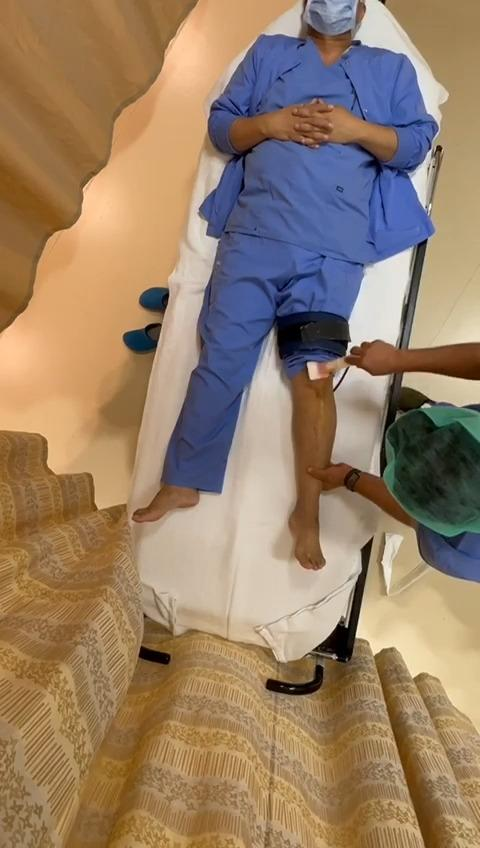patient: (134, 0, 437, 569)
prepstick: (305, 355, 347, 380)
tourniquet: (278, 313, 349, 359)
